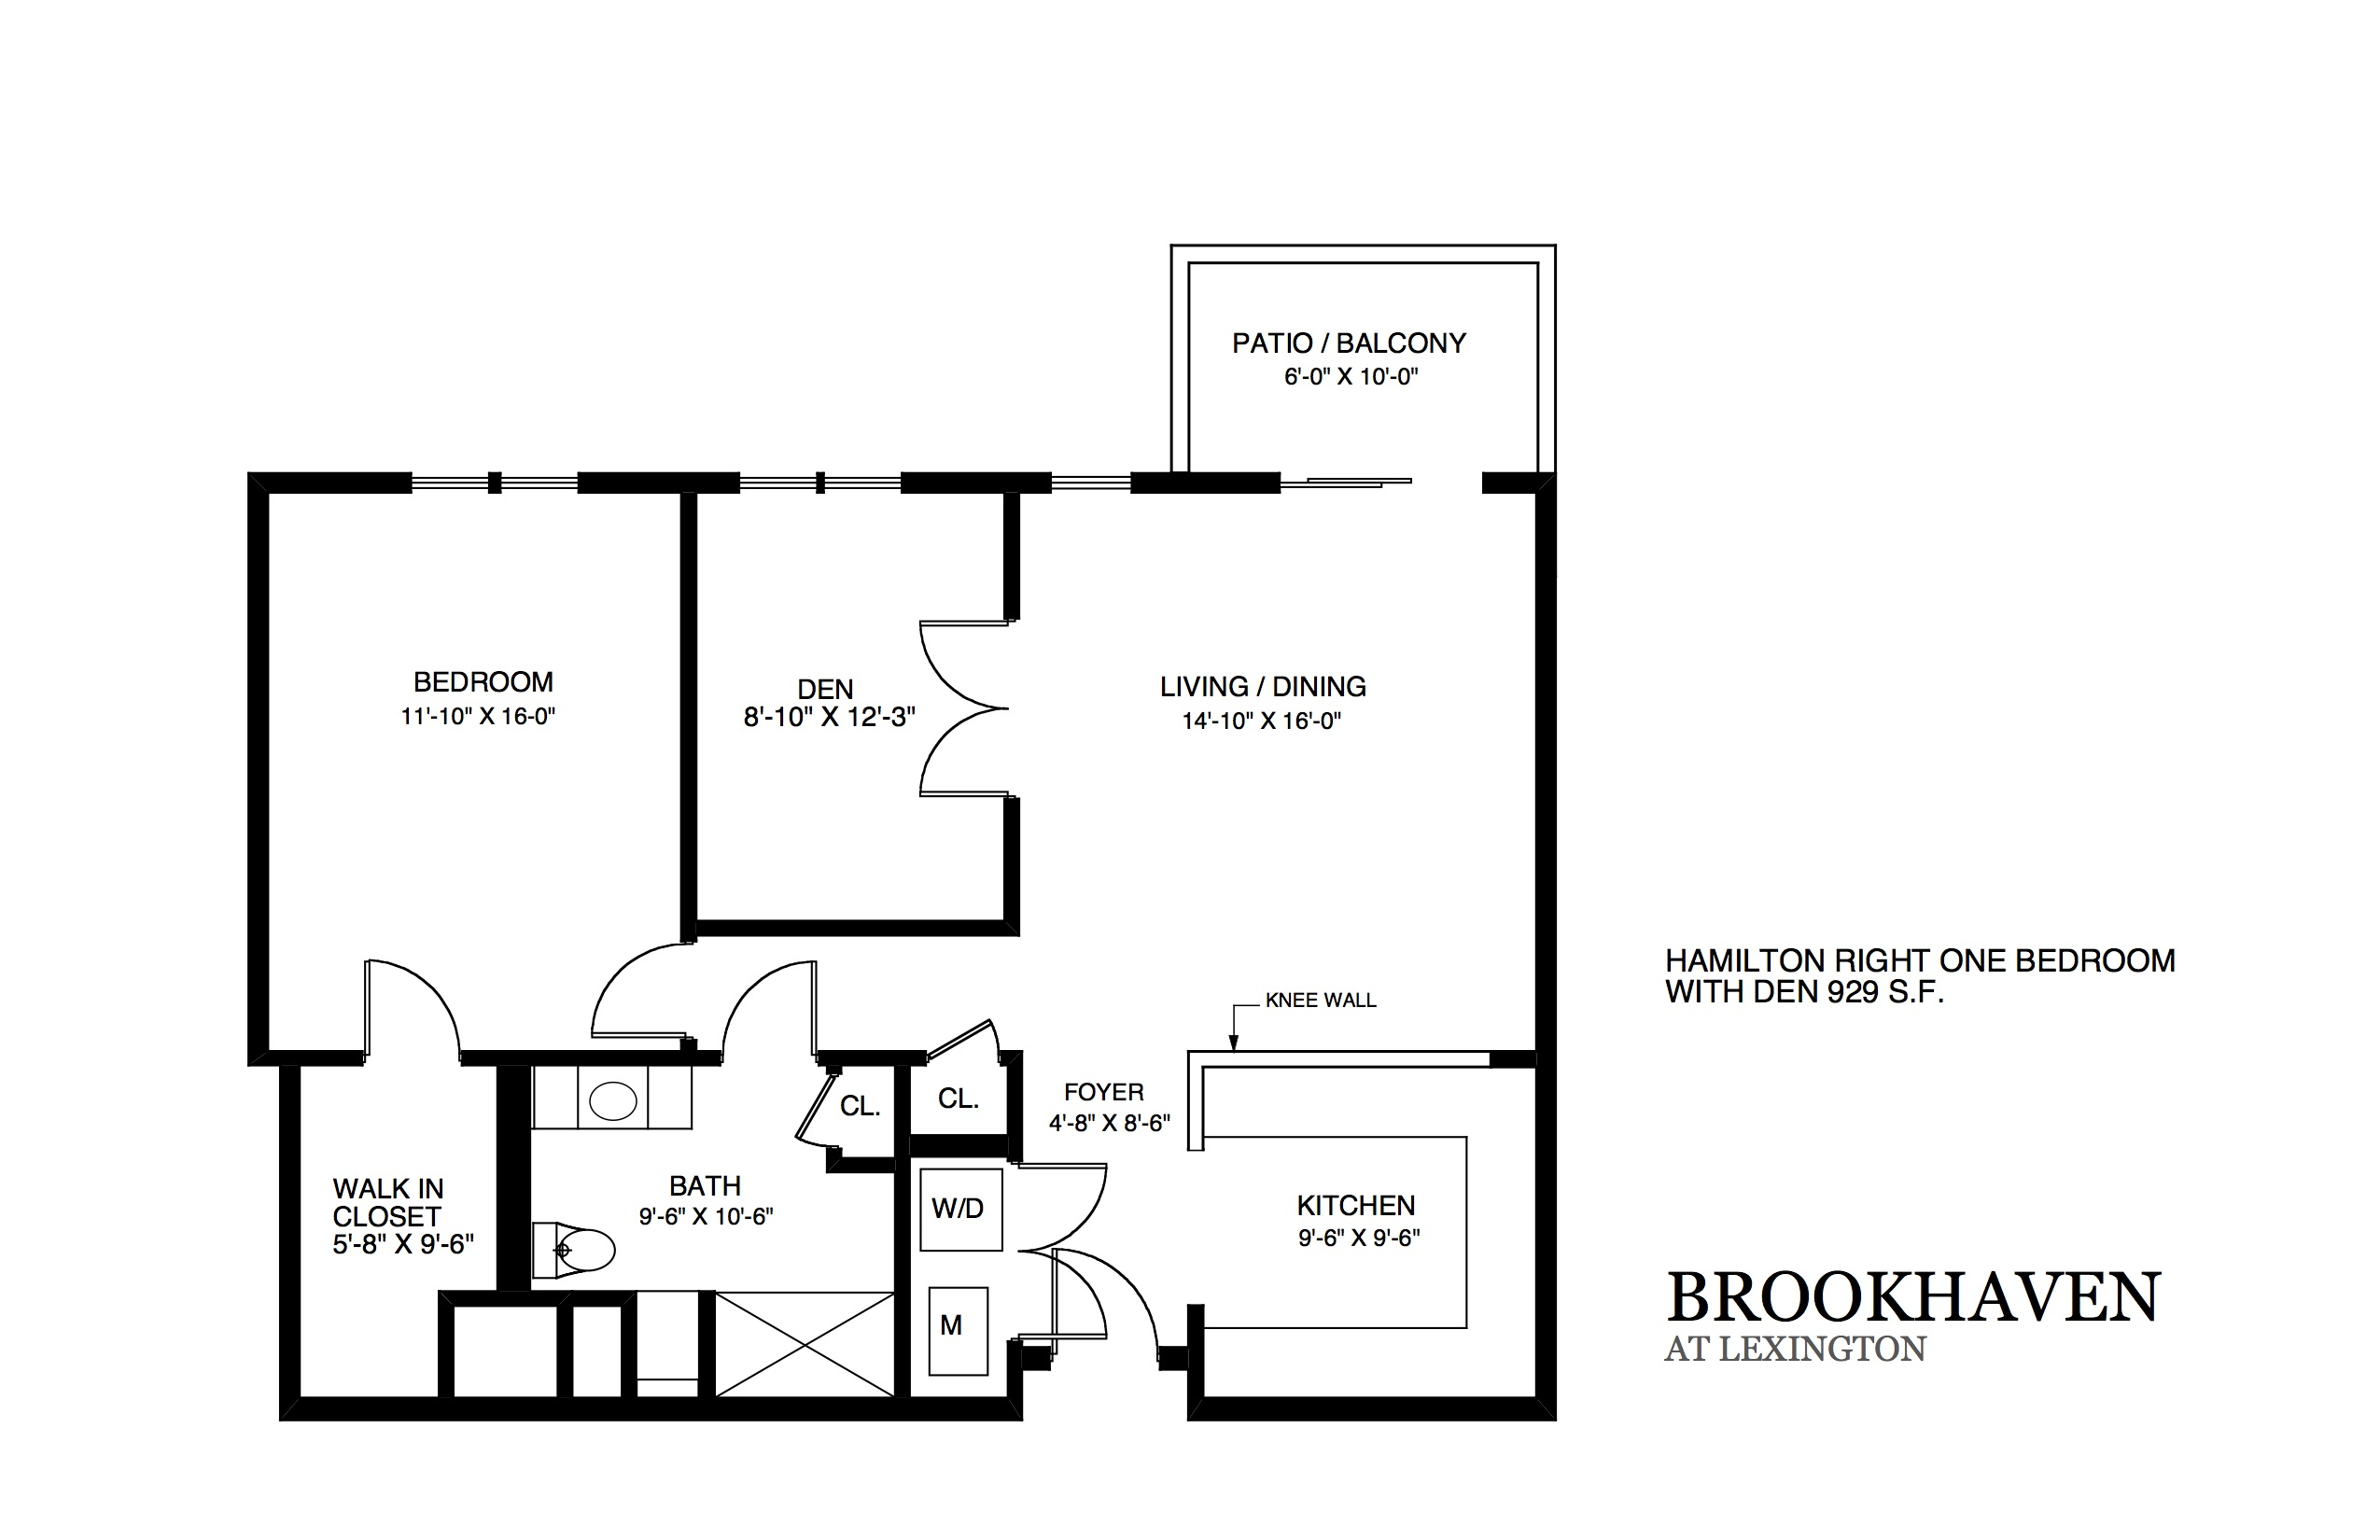door: (912, 616, 1010, 810), (1023, 1158, 1121, 1346), (572, 935, 678, 1044), (361, 940, 465, 1049), (1048, 1237, 1164, 1334), (722, 952, 826, 1049), (784, 1077, 838, 1153), (926, 1006, 1004, 1053)
